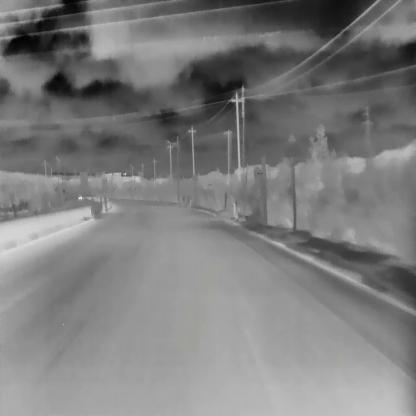truck: (76, 193, 82, 198)
